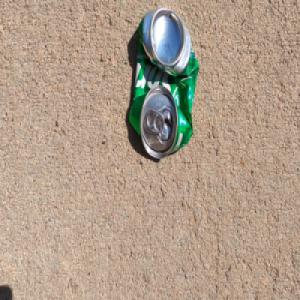SodaCan: (127, 6, 199, 161)
